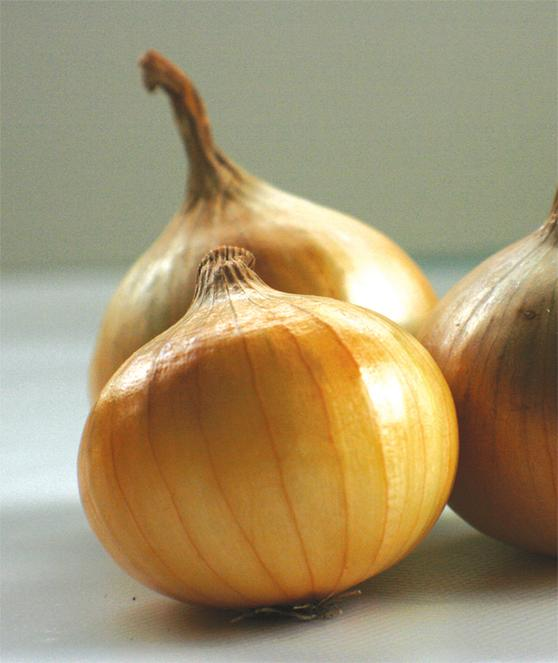onion: (78, 289, 459, 609)
